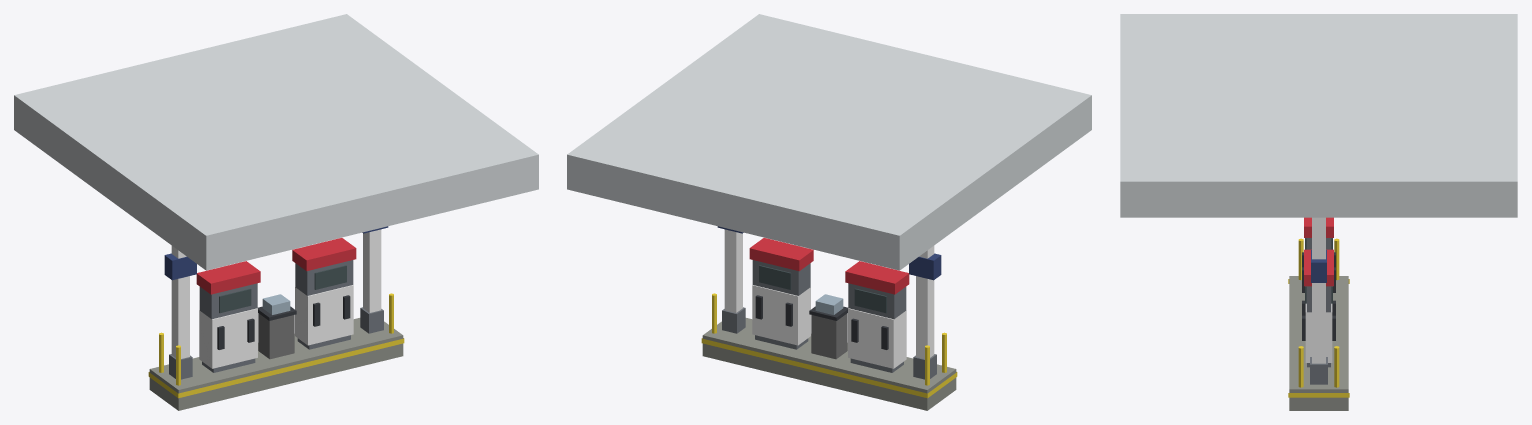
File: site_canopy.fbx
The picture shows the model from 3 angles, left to right: view 1: azimuth 30°, elevation 25°; view 2: azimuth 150°, elevation 25°; view 3: azimuth 270°, elevation 25°; orthographic projection. The views are drawn at different scales.
Parts seen in each view (by area): view 1: a1019/0/site_canopy; view 2: a1019/0/site_canopy; view 3: a1019/0/site_canopy.
Boxes of the visible parts, x1,y1,x2,y2 form: a1019/0/site_canopy: (14, 14, 538, 410); a1019/0/site_canopy: (567, 14, 1091, 410); a1019/0/site_canopy: (1120, 14, 1517, 410).
Bounding box in the file's own units: 8 × 5.7 × 8.
